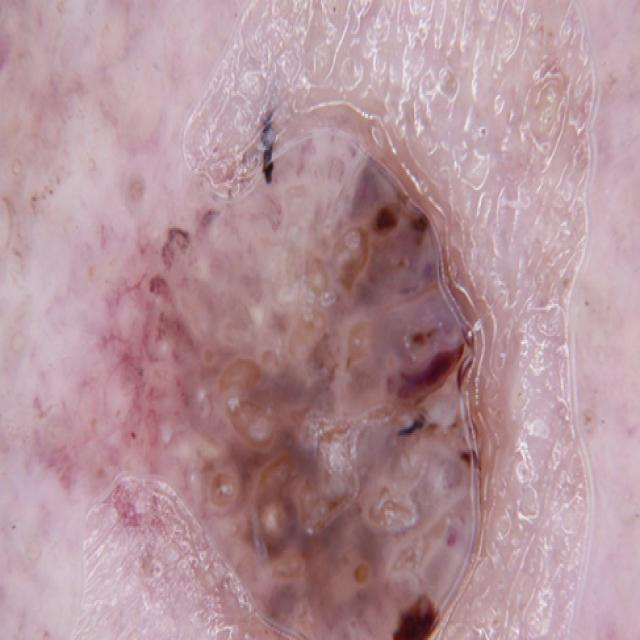Keratosis: (87, 99, 597, 640)
